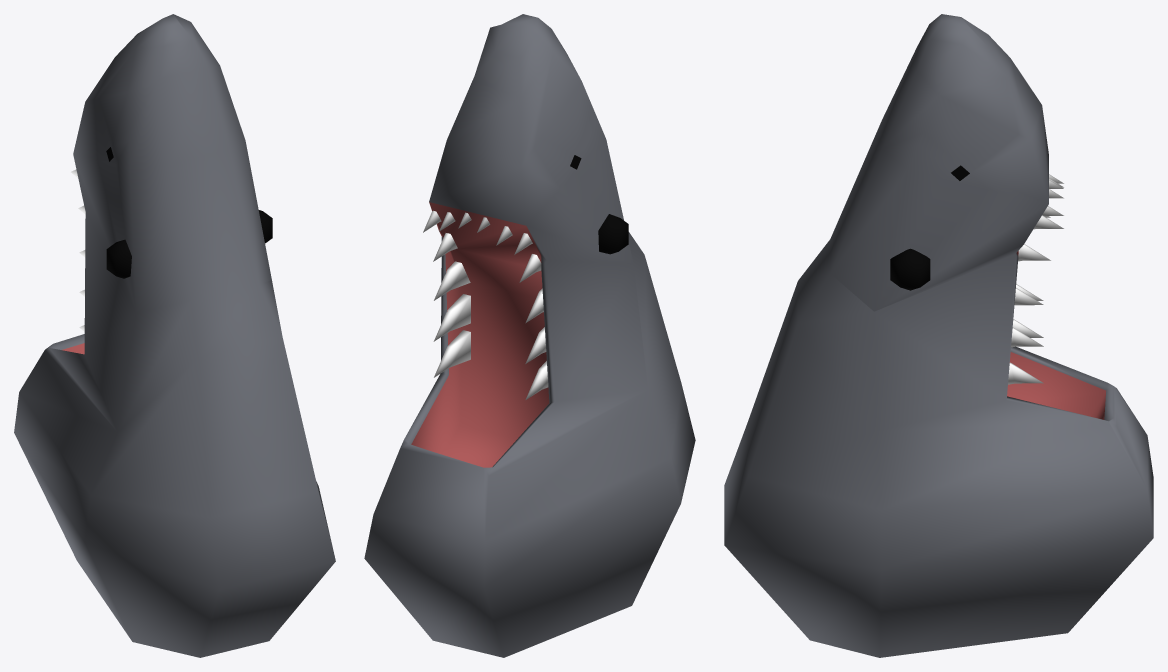
Rendered from Char_FL_Head.FBX.
The picture shows the model from 3 angles, left to right: view 1: azimuth 30°, elevation 25°; view 2: azimuth 150°, elevation 25°; view 3: azimuth 270°, elevation 25°; orthographic projection. The views are drawn at different scales.
Parts seen in each view (by area): view 1: Cylinder006; view 2: Cylinder006; view 3: Cylinder006.
Boxes of the visible parts, bbox=[...] form: Cylinder006: bbox=[14, 14, 335, 657]; Cylinder006: bbox=[364, 14, 695, 657]; Cylinder006: bbox=[724, 14, 1153, 657].
Bounding box in the file's own units: 12.3 × 28.9 × 18.6.
